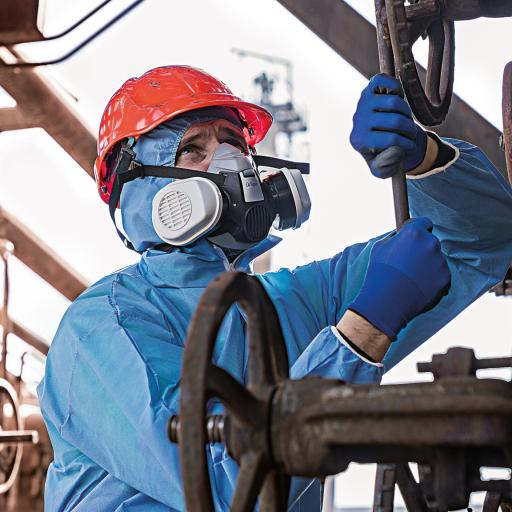mask: (156, 148, 326, 250)
